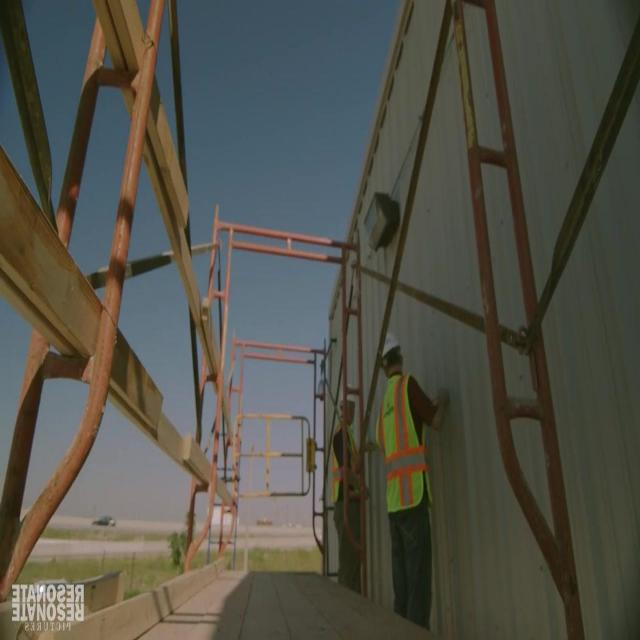Reflective-Jacket: (372, 370, 438, 530), (321, 421, 367, 521)
Safety-Helmet: (376, 324, 408, 371), (336, 384, 362, 415)
